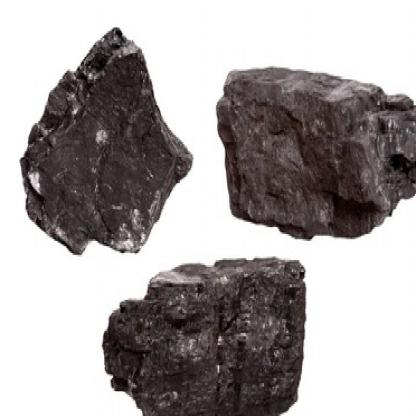Sedimentary_coal: (17, 17, 193, 250), (215, 54, 415, 239), (98, 255, 312, 414)
